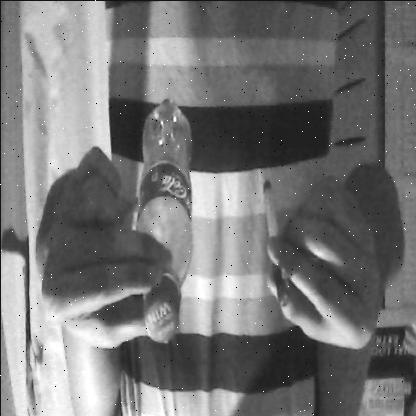Plastic Bottle: (128, 87, 199, 352)
